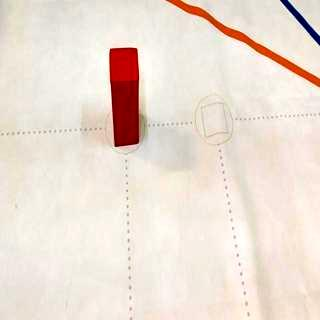redbox: (110, 49, 140, 147)
